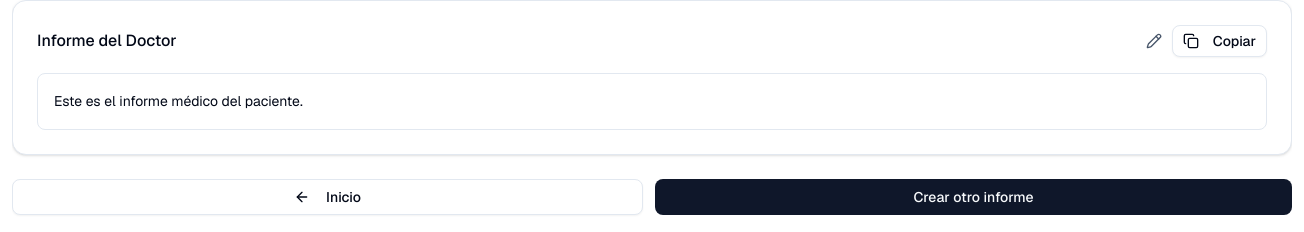
Test: QuickInformeResult › shows "Copiado" text on the button after successful copy
The image size is (1304, 232).
Click the button "Copiar": [1219, 41] box [1172, 25, 1267, 57]
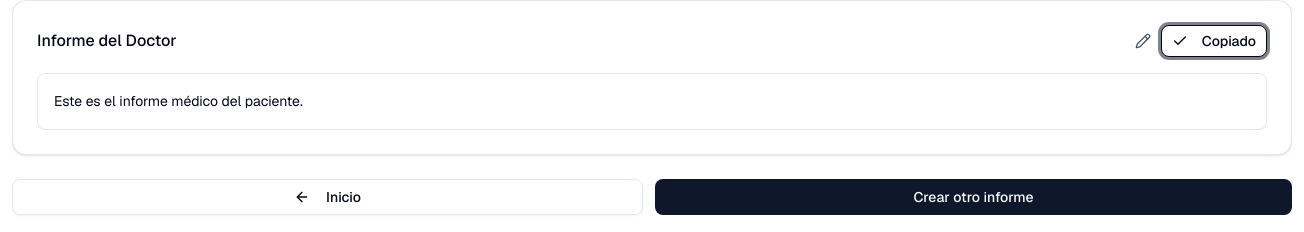
expect the button "Copiado" is shown: met, box [1161, 25, 1267, 57]
